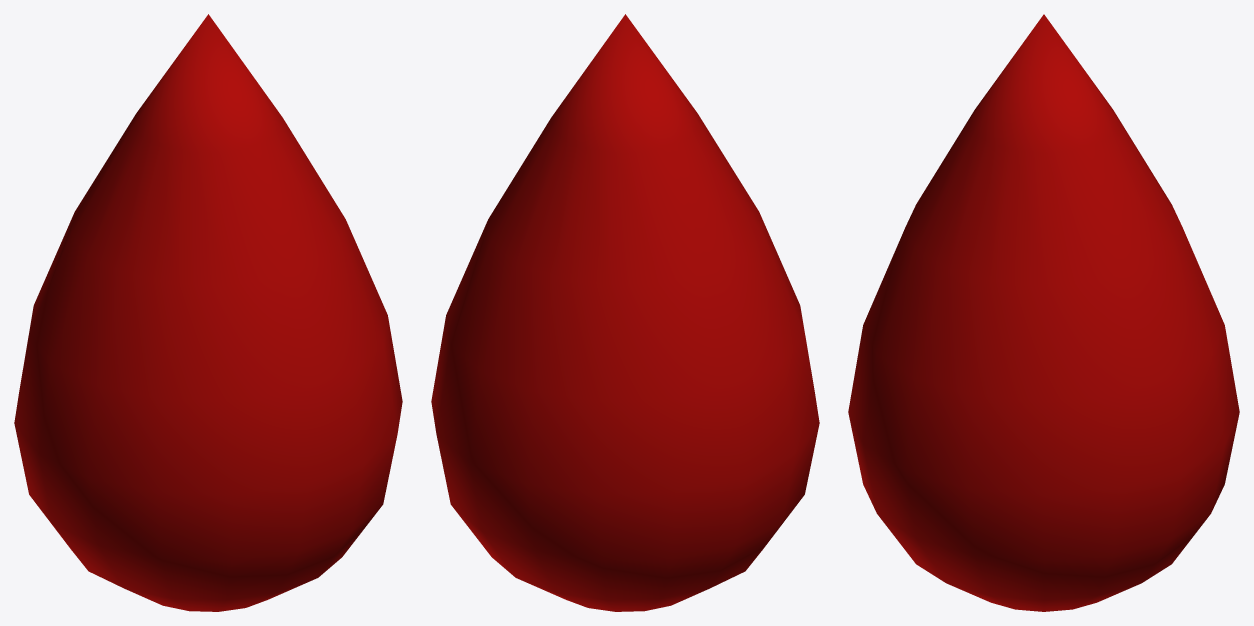
File: blood_drop.glb
The picture shows the model from 3 angles, left to right: view 1: azimuth 30°, elevation 25°; view 2: azimuth 150°, elevation 25°; view 3: azimuth 270°, elevation 25°; orthographic projection.
Visible parts, largest first — view 1: BloodDrop; view 2: BloodDrop; view 3: BloodDrop.
Boxes of the visible parts, x1,y1,x2,y2 form: BloodDrop: (14,14,402,611); BloodDrop: (431,14,819,611); BloodDrop: (848,14,1239,611).
Bounding box in the file's own units: 0.205 × 0.335 × 0.205.
